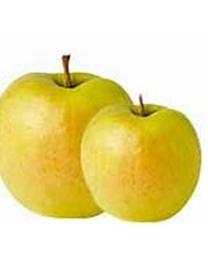apple: (0, 54, 131, 217), (80, 93, 201, 220)
